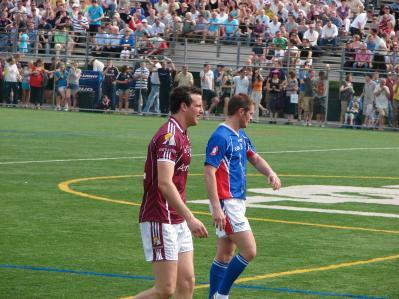player: (213, 86, 256, 283), (159, 90, 191, 282)
